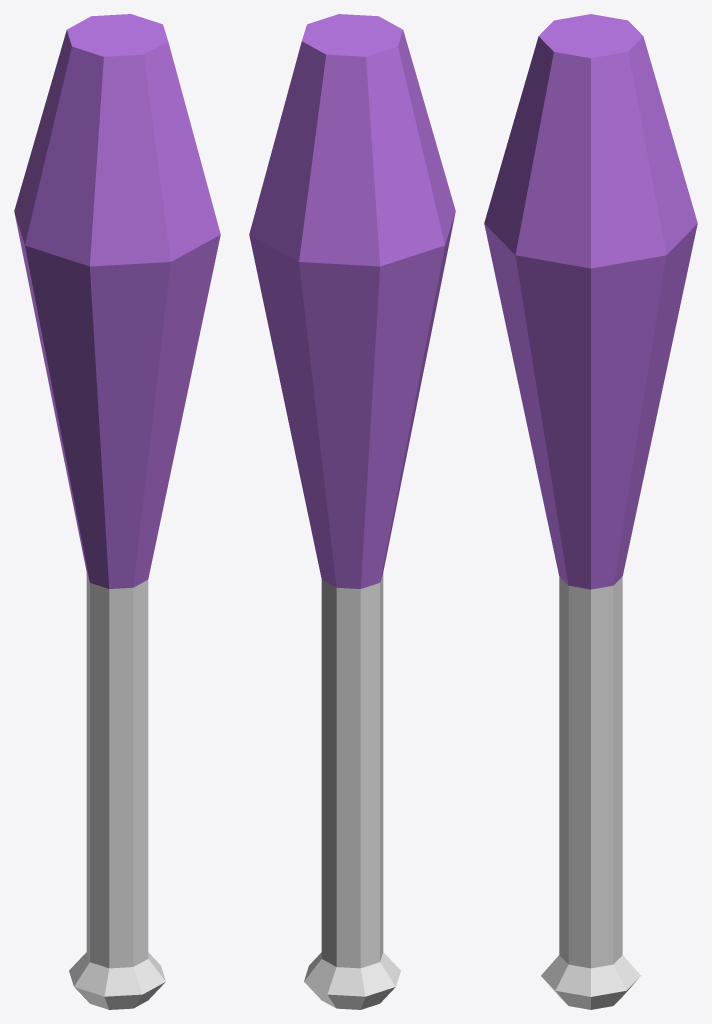
The model's file is juggling_club.fbx.
3 views of the same model, side by side, from view 1: azimuth 30°, elevation 25°; view 2: azimuth 150°, elevation 25°; view 3: azimuth 270°, elevation 25° (orthographic).
Parts seen in each view (by area): view 1: JugglingClub; view 2: JugglingClub; view 3: JugglingClub.
Boxes of the visible parts, <box> form: JugglingClub: <box>14,14,220,1009</box>; JugglingClub: <box>249,14,455,1009</box>; JugglingClub: <box>484,14,697,1009</box>.
Size of the model in its own units: 13.43 by 66.6 by 13.43.
